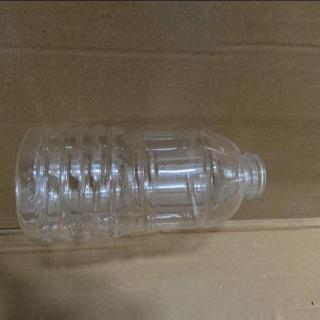Anorganik: (14, 118, 268, 246)
